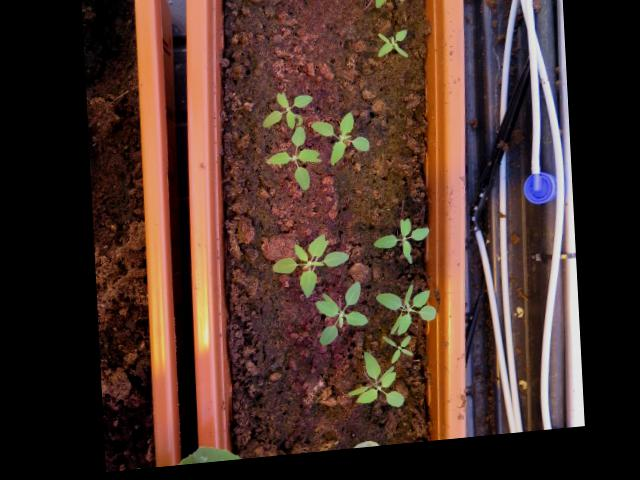weed: (363, 219, 434, 278), (372, 32, 411, 69), (361, 0, 415, 19)
